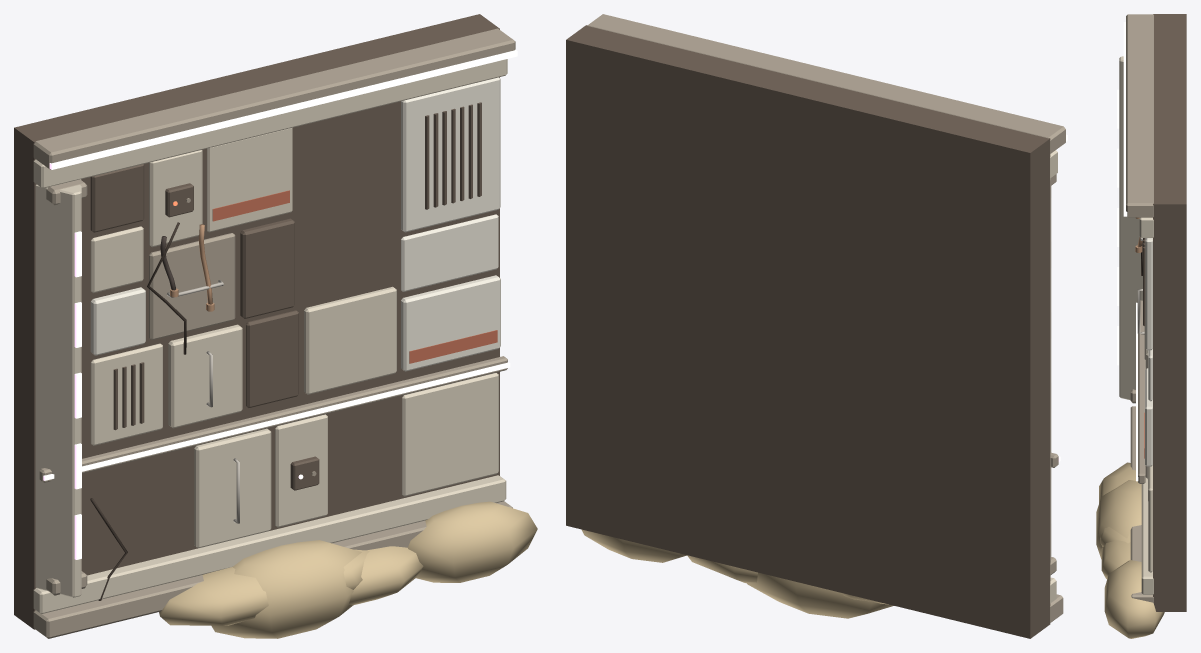
Rendered from wall_du_plate.glb.
The picture shows the model from 3 angles, left to right: view 1: azimuth 30°, elevation 25°; view 2: azimuth 150°, elevation 25°; view 3: azimuth 270°, elevation 25°; orthographic projection. The views are drawn at different scales.
Visible parts, largest first — view 1: wall_du_plate; view 2: wall_du_plate; view 3: wall_du_plate.
Boxes of the visible parts, box(x1,y1,x2,y2) form: wall_du_plate: box(14, 14, 537, 638); wall_du_plate: box(566, 14, 1067, 638); wall_du_plate: box(1096, 14, 1186, 638).
Bounding box in the file's own units: 4.2 × 4.43 × 0.8052.
